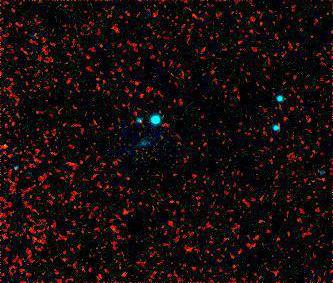star: (0, 126, 20, 156)
